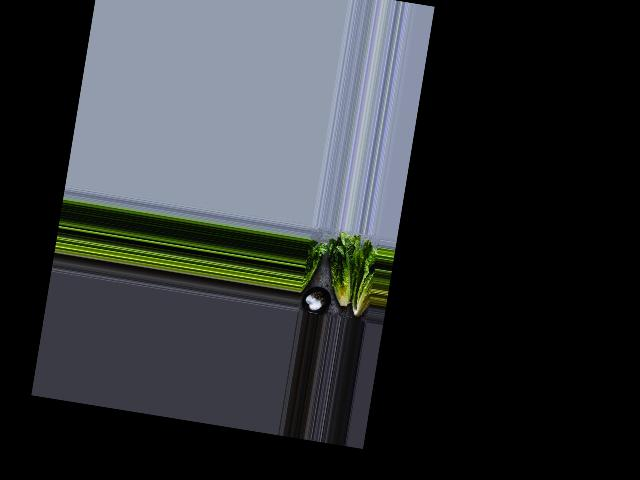lettuce: (346, 244, 378, 322)
